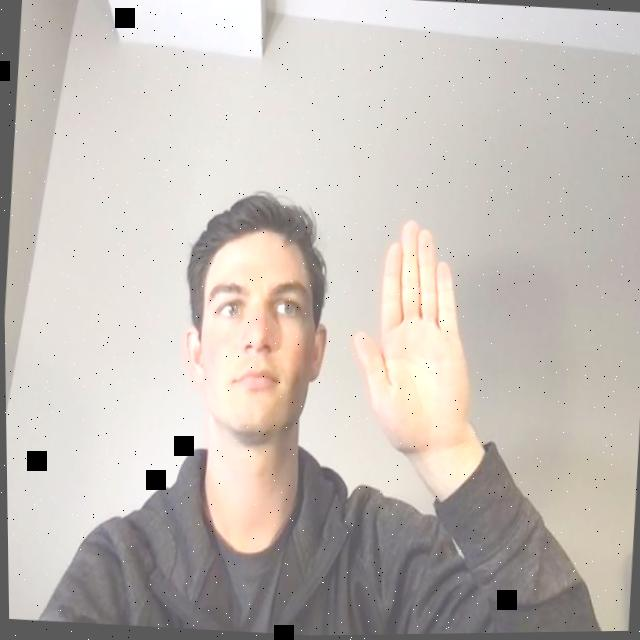Paper: (338, 208, 486, 457)
